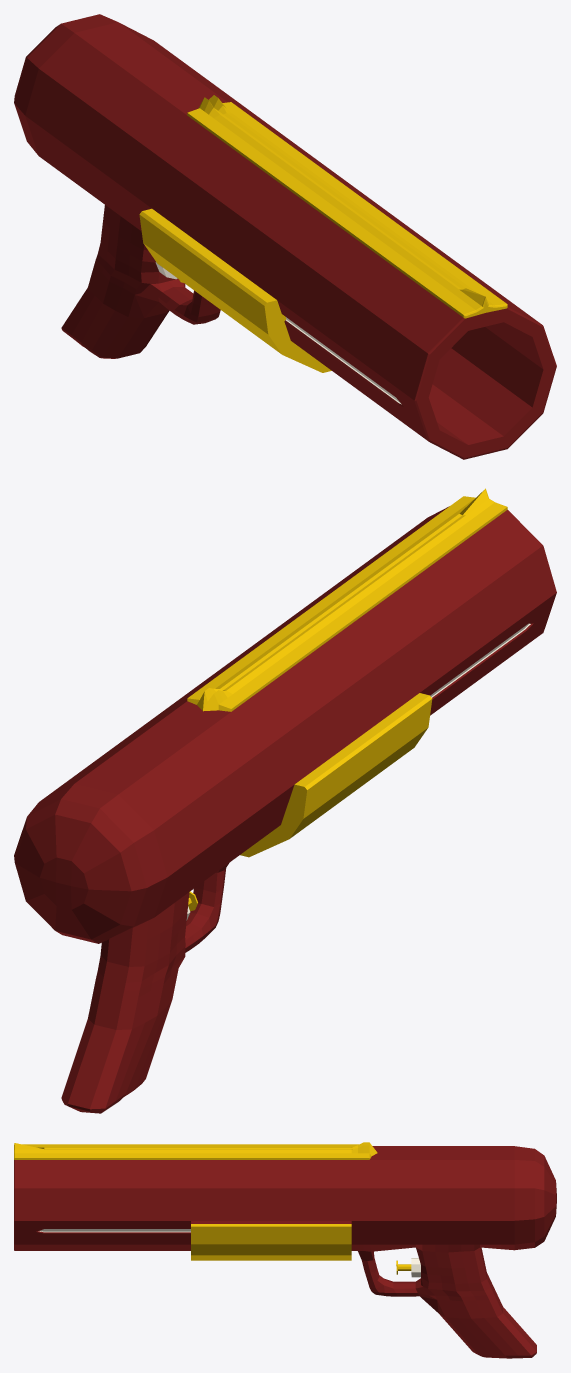
File: grenadeLauncher.fbx
The picture shows the model from 3 angles, top to bottom: view 1: azimuth 30°, elevation 25°; view 2: azimuth 150°, elevation 25°; view 3: azimuth 270°, elevation 25°; orthographic projection. The views are drawn at different scales.
Visible parts, largest first — view 1: GrenadeLauncher; view 2: GrenadeLauncher; view 3: GrenadeLauncher.
Boxes of the visible parts, left/top/right/bottom form: GrenadeLauncher: left=14, top=14, right=556, bottom=459; GrenadeLauncher: left=14, top=488, right=556, bottom=1113; GrenadeLauncher: left=14, top=1142, right=556, bottom=1358.
Size of the model in its own units: 14.58 by 27.15 by 63.61.
